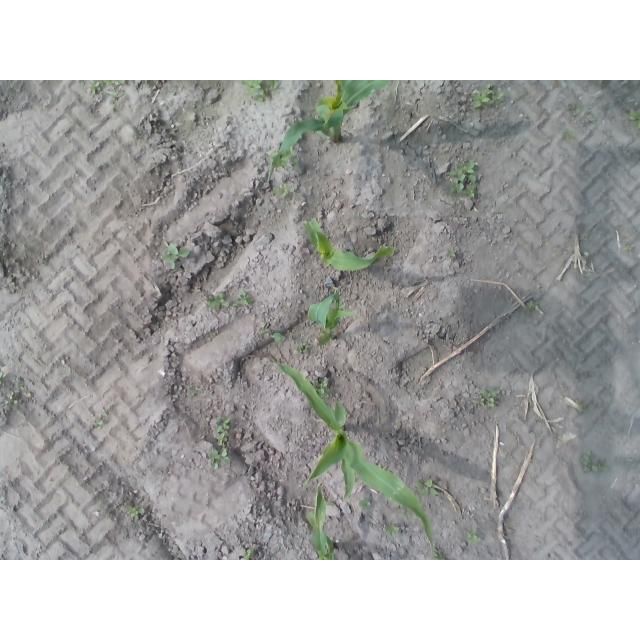Maize: (259, 360, 437, 556), (269, 82, 403, 182), (304, 218, 400, 346), (303, 482, 366, 560)
Weeds: (210, 413, 233, 475), (450, 162, 480, 199), (88, 81, 128, 106), (0, 371, 26, 409), (472, 84, 504, 109), (247, 80, 282, 102), (582, 452, 610, 477), (161, 241, 187, 267), (475, 386, 502, 411), (274, 182, 299, 207), (89, 405, 111, 433), (416, 478, 441, 502), (124, 505, 150, 528), (314, 368, 331, 398), (236, 287, 256, 310), (463, 528, 485, 548), (209, 292, 228, 315), (628, 105, 640, 138), (263, 328, 286, 345), (357, 495, 375, 512), (387, 521, 403, 540), (295, 339, 310, 354), (237, 548, 257, 559), (447, 250, 461, 263)
